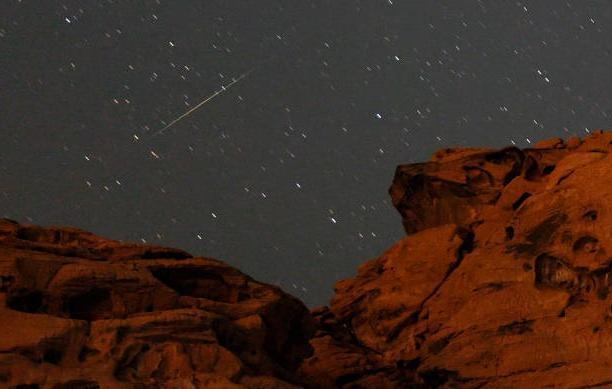meteorite: (155, 57, 281, 126)
